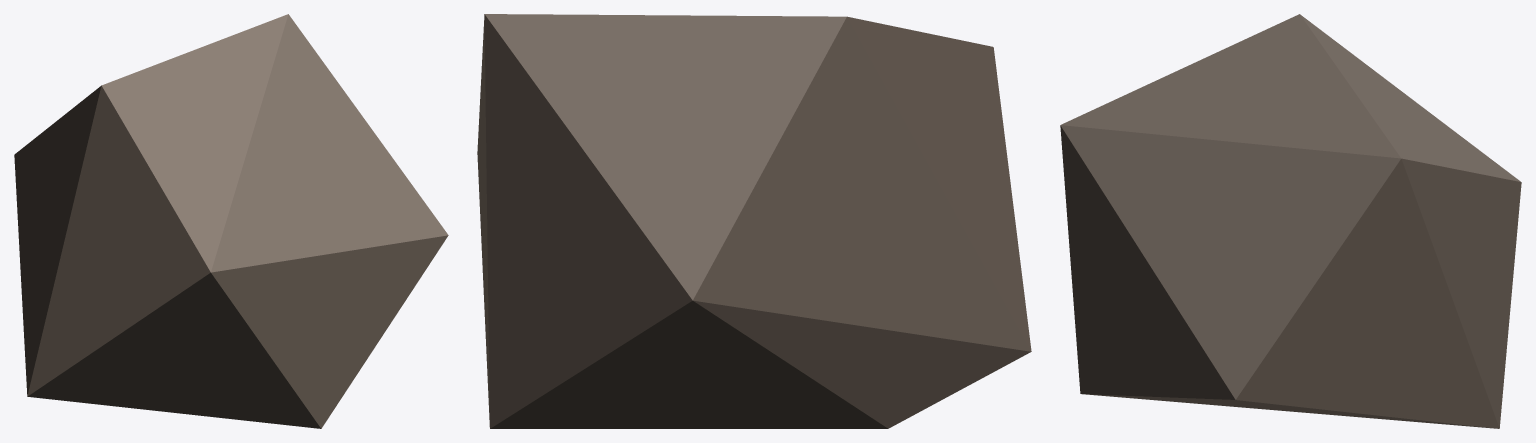
The model's file is tl_env_stone_small_b_v01.glb.
3 renders of one model, left to right at view 1: azimuth 30°, elevation 25°; view 2: azimuth 150°, elevation 25°; view 3: azimuth 270°, elevation 25°, orthographic. The views are drawn at different scales.
Parts seen in each view (by area): view 1: tl_env_stone_small_b_v01; view 2: tl_env_stone_small_b_v01; view 3: tl_env_stone_small_b_v01.
Part boxes in pixels (x1,y1,x2,y2): tl_env_stone_small_b_v01: (14,14,448,428); tl_env_stone_small_b_v01: (477,14,1031,428); tl_env_stone_small_b_v01: (1060,14,1521,428).
Size of the model in its own units: 0.24 by 0.16 by 0.21.
